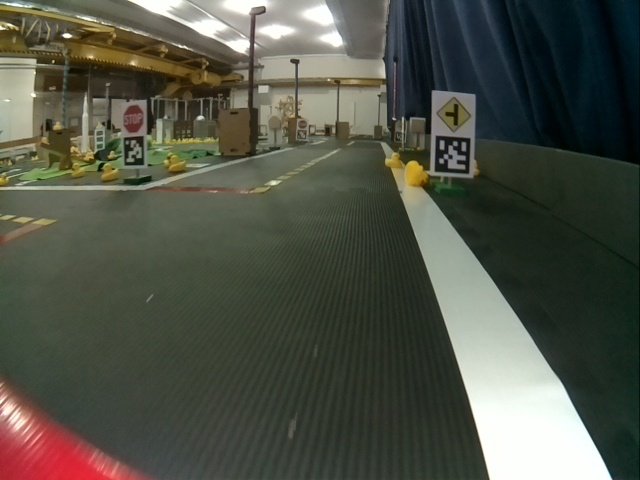Duckie: (405, 162, 426, 184), (102, 164, 119, 178), (71, 163, 84, 174), (169, 159, 182, 169), (386, 154, 400, 163), (163, 153, 173, 163), (2, 176, 10, 185)
Intersection sign: (434, 96, 470, 131)
QR code: (436, 135, 470, 176), (124, 138, 144, 164)
Stop sign: (123, 104, 145, 132)
